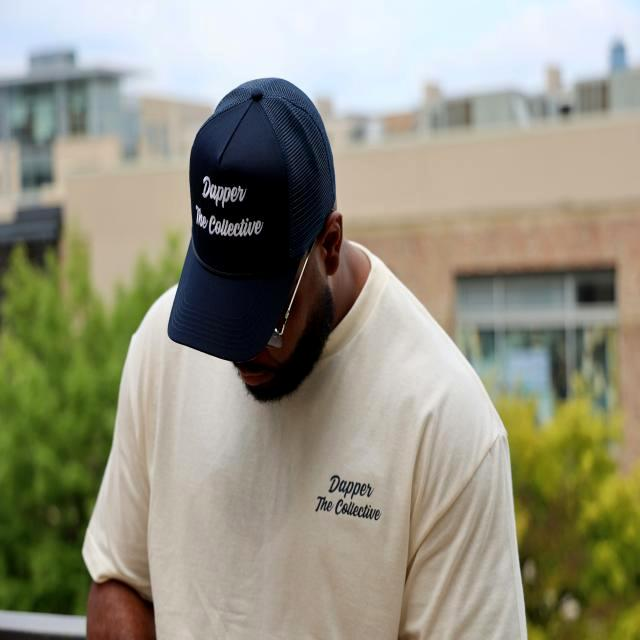no_hard_hat: (169, 78, 335, 361)
person: (83, 79, 527, 639)
